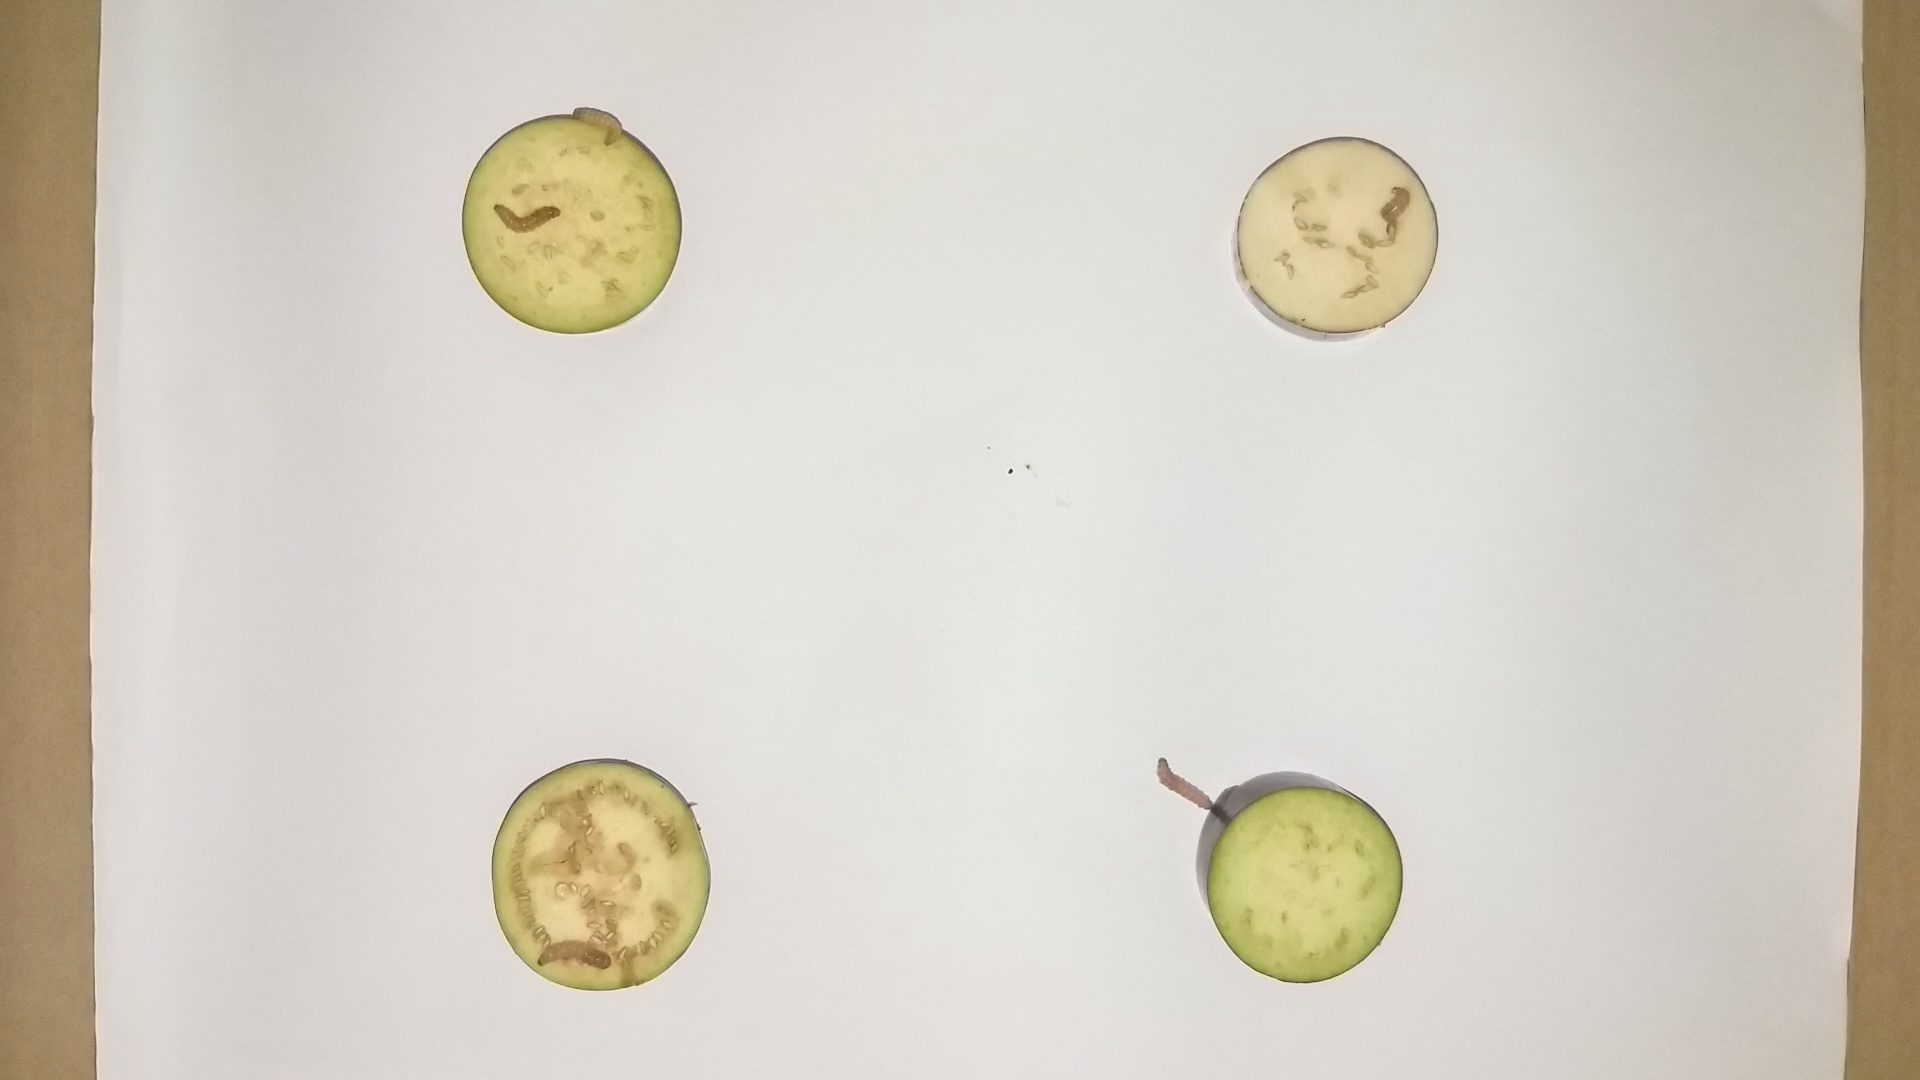efsb: (1156, 746, 1216, 816), (535, 934, 618, 980), (483, 195, 571, 236), (567, 105, 626, 146), (1377, 175, 1419, 229)
eggplant: (488, 750, 713, 1000), (454, 112, 688, 347), (1191, 765, 1407, 990), (1228, 129, 1448, 349)
